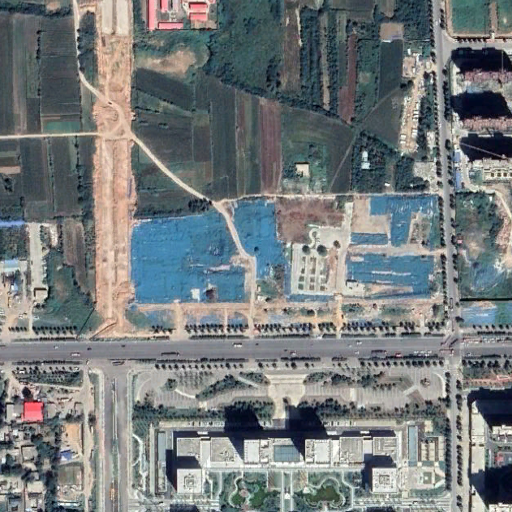cw: (128, 192, 445, 324)
